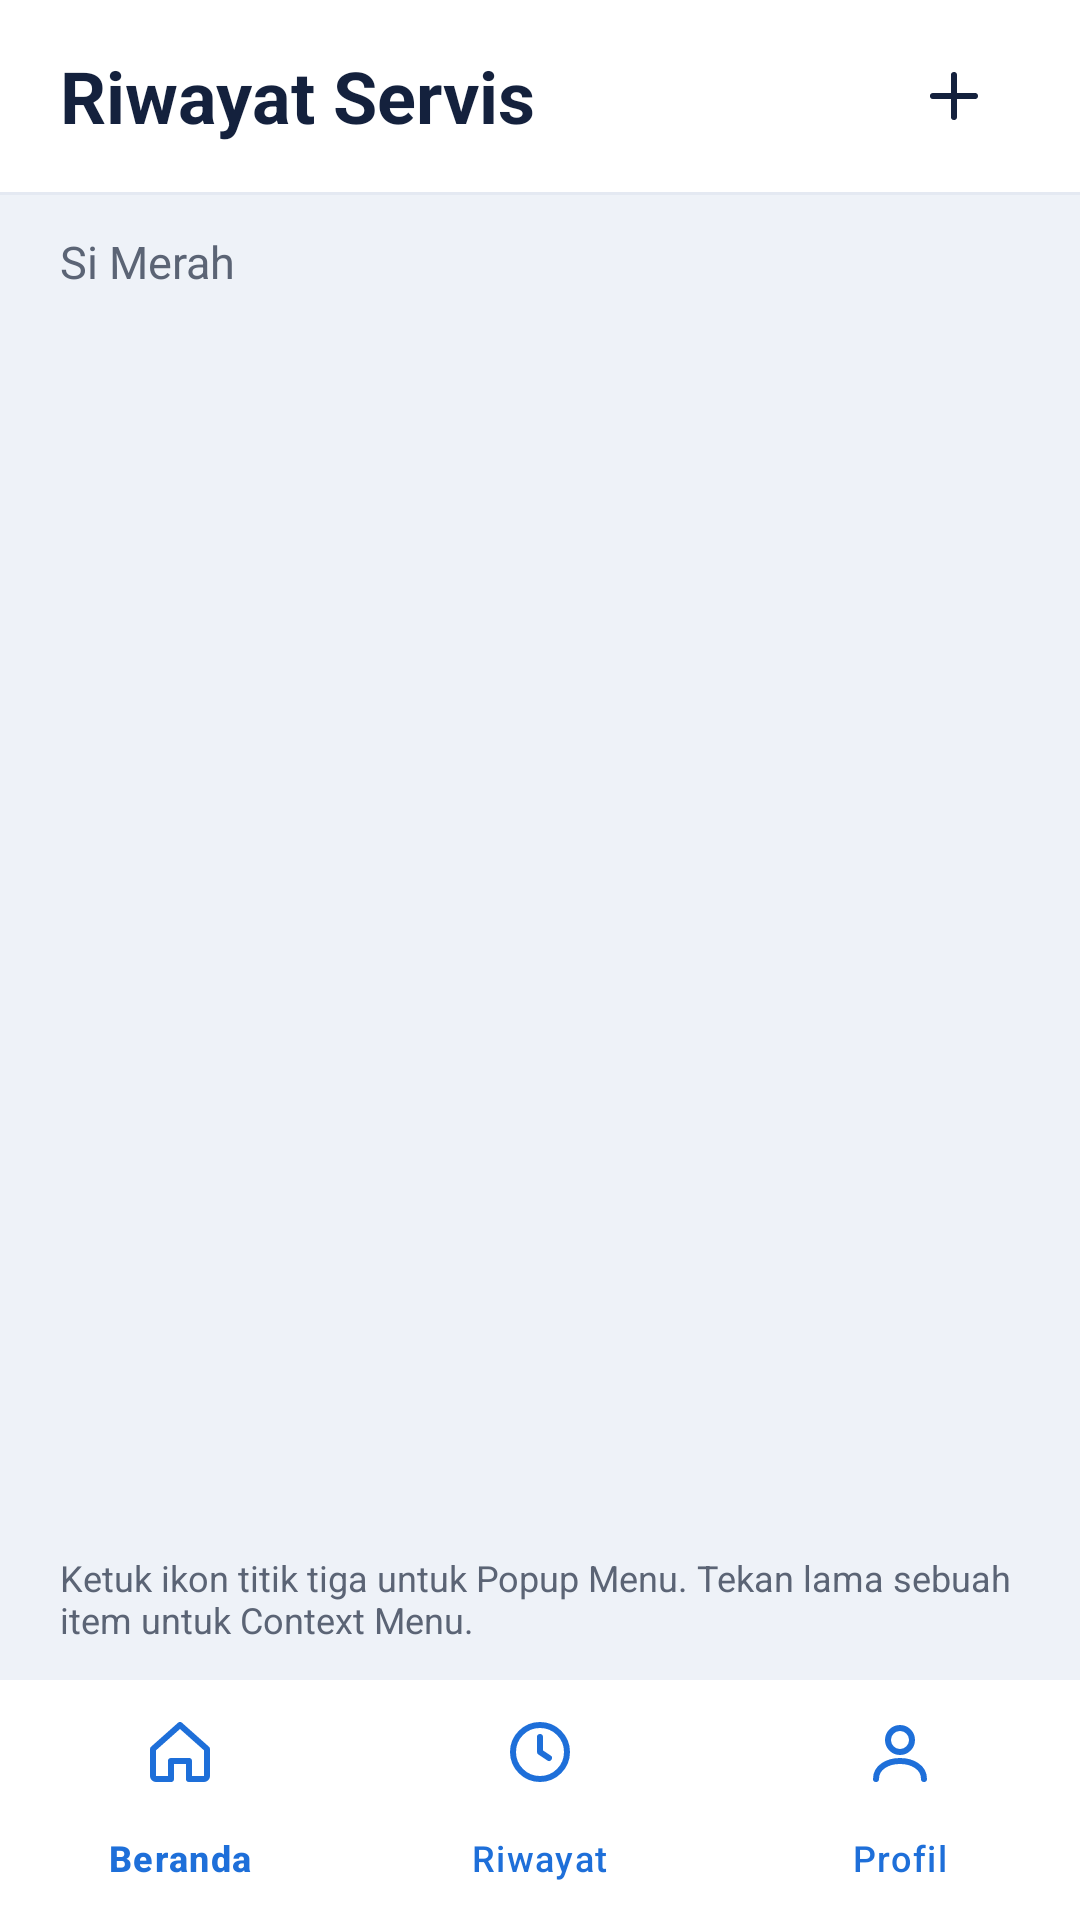

Screen size 1080px x 1920px. Icon name, then its center in pixels as (x,y):
Tambah Servis: (954,96)
